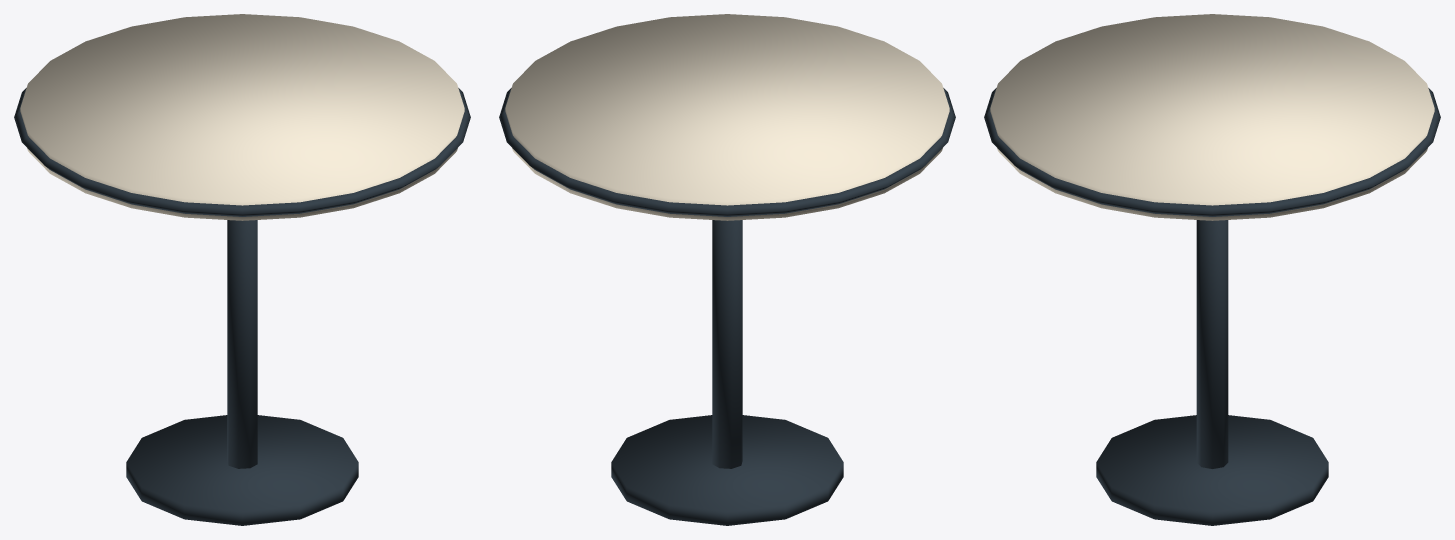
The model's file is cafe-table.glb.
The picture shows the model from 3 angles, left to right: view 1: azimuth 30°, elevation 25°; view 2: azimuth 150°, elevation 25°; view 3: azimuth 270°, elevation 25°; orthographic projection.
Parts seen in each view (by area): view 1: table-top, table-foot, table-stem, table-edge; view 2: table-top, table-foot, table-stem, table-edge; view 3: table-top, table-foot, table-stem, table-edge.
Boxes of the visible parts, x1,y1,x2,y2 form: table-top: [20, 14, 464, 220]; table-foot: [126, 415, 358, 525]; table-stem: [227, 220, 257, 468]; table-edge: [14, 88, 470, 216]; table-top: [505, 14, 949, 220]; table-foot: [611, 415, 843, 525]; table-stem: [712, 220, 742, 468]; table-edge: [499, 88, 955, 216]; table-top: [990, 14, 1434, 220]; table-foot: [1096, 415, 1328, 525]; table-stem: [1196, 220, 1228, 468]; table-edge: [984, 88, 1440, 216].
Bounding box in the file's own units: 0.864 × 0.77 × 0.864.
